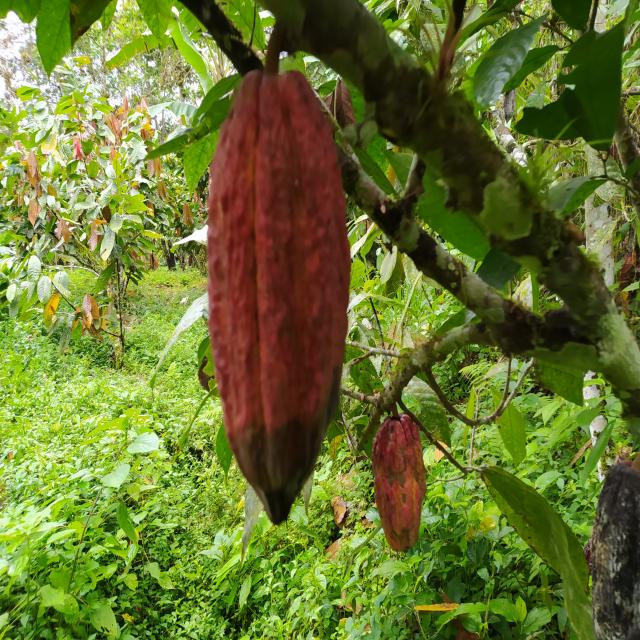Fitoftora: (213, 70, 351, 520), (592, 458, 640, 635)
Sana: (374, 418, 426, 556)
